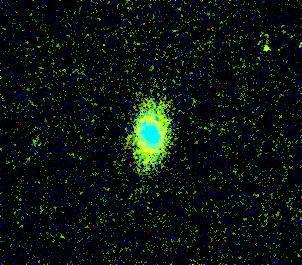star: (251, 31, 281, 61)
